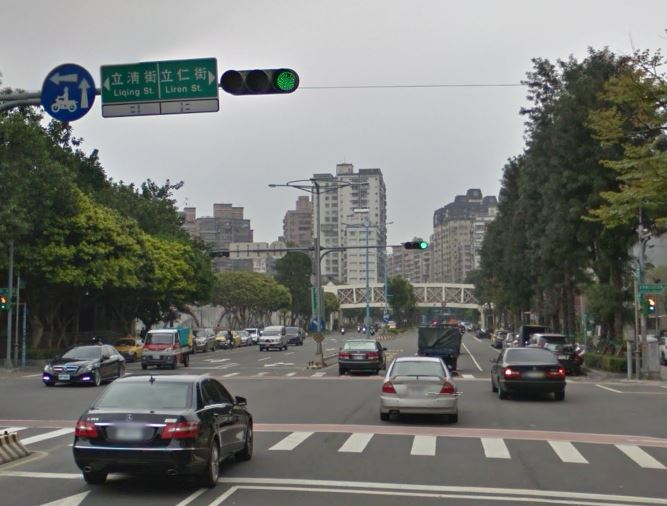Traffic_light_green: (220, 69, 300, 99), (403, 240, 430, 253)
car: (73, 369, 256, 485), (378, 353, 460, 424), (41, 337, 130, 389), (488, 343, 566, 402), (337, 335, 387, 376)
